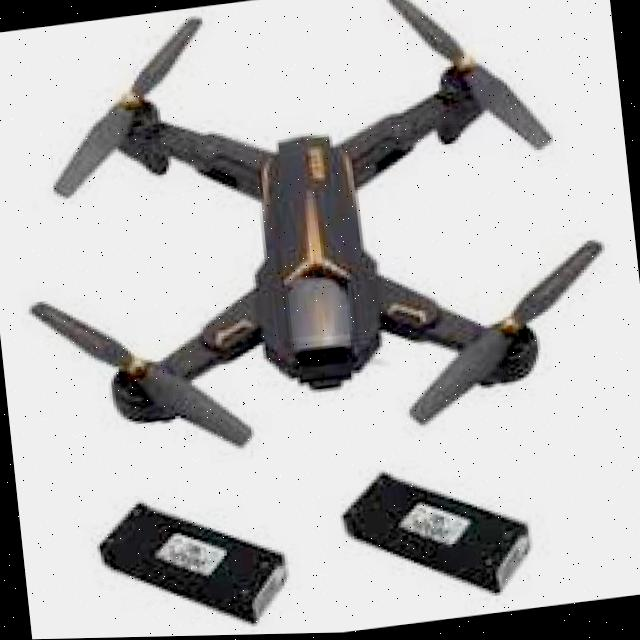drone: (0, 0, 621, 492)
